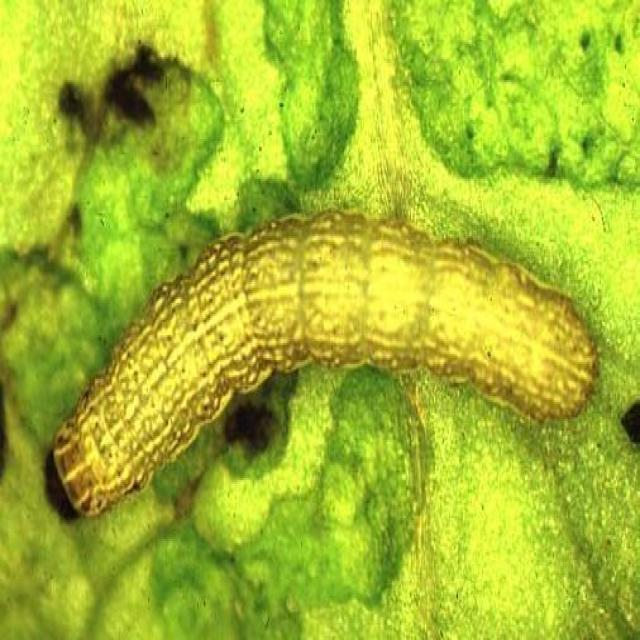armyworm: (34, 191, 618, 545)
